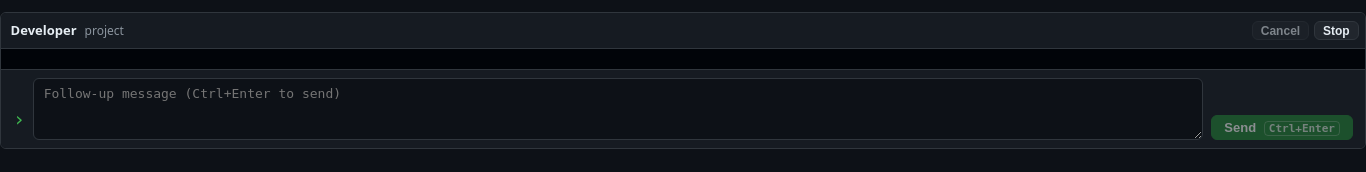
Test: chat composer slash menu › moves with arrows and inserts with Enter, tracking aria-activedescendant
The width and height of the screenshot is (1366, 172).
Type "/" into the text box labelled "Follow-up message". click: (618,109)
box: [33, 78, 1203, 140]
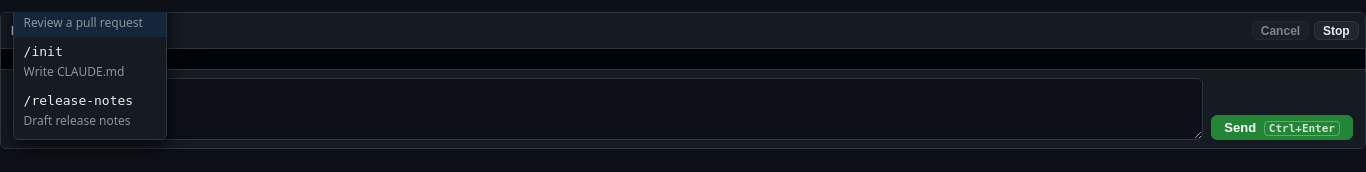
Press ArrowDown in the text box named "Follow-up message", box [33, 78, 1203, 140]
Press ArrowDown in the text box named "Follow-up message", box [33, 78, 1203, 140]
Press ArrowDown in the text box named "Follow-up message", box [33, 78, 1203, 140]
Press ArrowUp in the text box named "Follow-up message", box [33, 78, 1203, 140]
Press Enter in the text box named "Follow-up message", box [33, 78, 1203, 140]
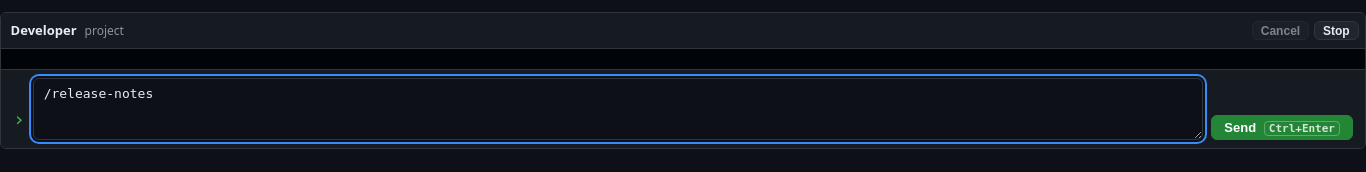
Expected: the text box named "Follow-up message" holds "/release-notes ", [33, 78, 1203, 140]
